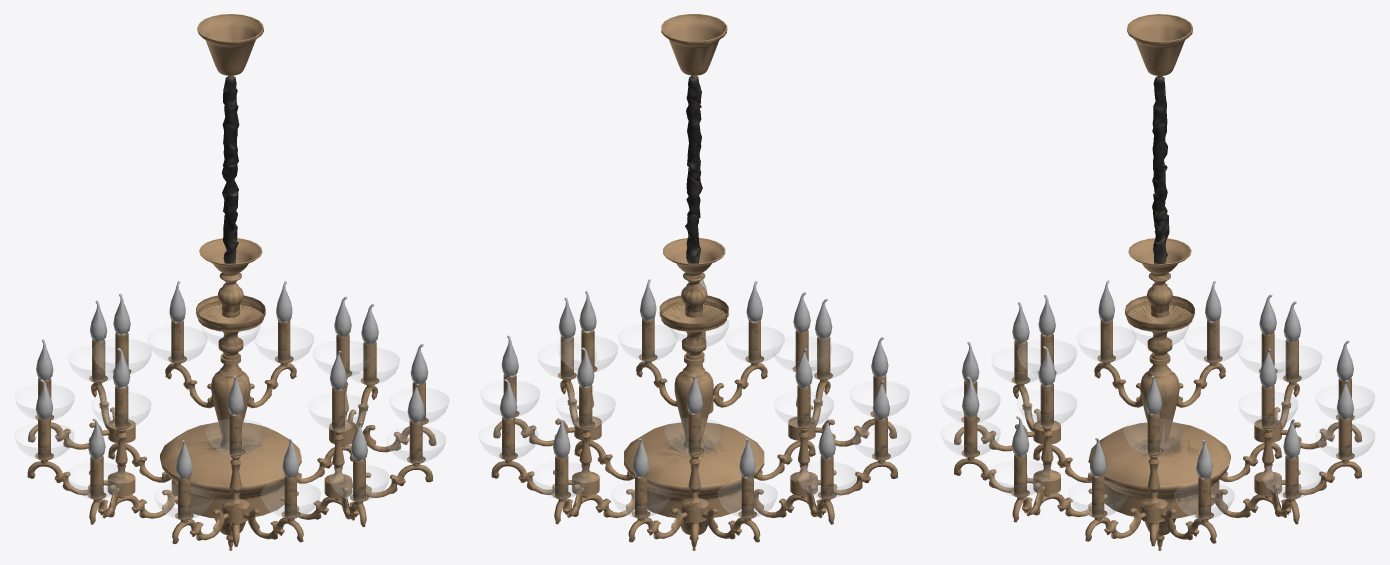
The model's file is Chandelier_03.glb.
3 renders of one model, left to right at view 1: azimuth 30°, elevation 25°; view 2: azimuth 150°, elevation 25°; view 3: azimuth 270°, elevation 25°, orthographic.
Parts seen in each view (by area): view 1: Chandelier_03; view 2: Chandelier_03; view 3: Chandelier_03.
Part boxes in pixels (x1,y1,x2,y2): Chandelier_03: (14,14,449,550); Chandelier_03: (478,14,911,550); Chandelier_03: (940,14,1375,550).
Bounding box in the file's own units: 0.7804 × 1.04 × 0.7854.
Materials: 2 (1 with a texture image).
